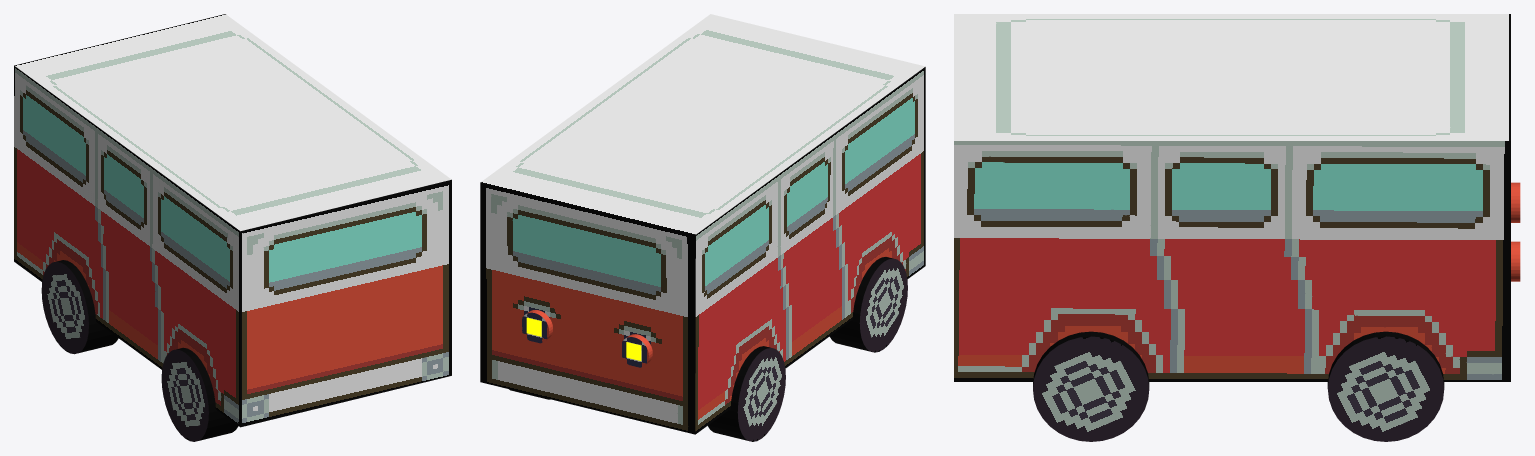
File: bus_red.glb
3 renders of one model, left to right at view 1: azimuth 30°, elevation 25°; view 2: azimuth 150°, elevation 25°; view 3: azimuth 270°, elevation 25°, orthographic. The views are drawn at different scales.
Parts seen in each view (by area): view 1: 立方体.001, wheel, wheel.001; view 2: 立方体.001, wheel, wheel.001, 柱体, 柱体.001; view 3: 立方体.001, wheel.002, wheel.003.
Part boxes in pixels (x1=…): 立方体.001: x1=14, y1=14, x2=451, y2=427; wheel: x1=41, y1=260, x2=118, y2=354; wheel.001: x1=161, y1=347, x2=238, y2=441; 立方体.001: x1=480, y1=14, x2=925, y2=434; wheel: x1=708, y1=346, x2=785, y2=441; wheel.001: x1=829, y1=257, x2=907, y2=352; 柱体: x1=520, y1=310, x2=552, y2=343; 柱体.001: x1=620, y1=334, x2=652, y2=367; 立方体.001: x1=954, y1=14, x2=1510, y2=381; wheel.002: x1=1327, y1=331, x2=1444, y2=441; wheel.003: x1=1033, y1=331, x2=1149, y2=441.
Bounding box in the file's own units: 1.1 × 1.12 × 1.95.
2 materials, 1 textured.
